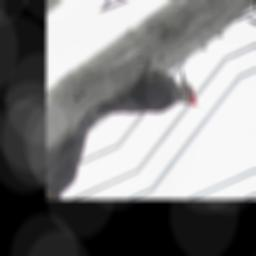Woodpecker: (87, 44, 207, 161)
